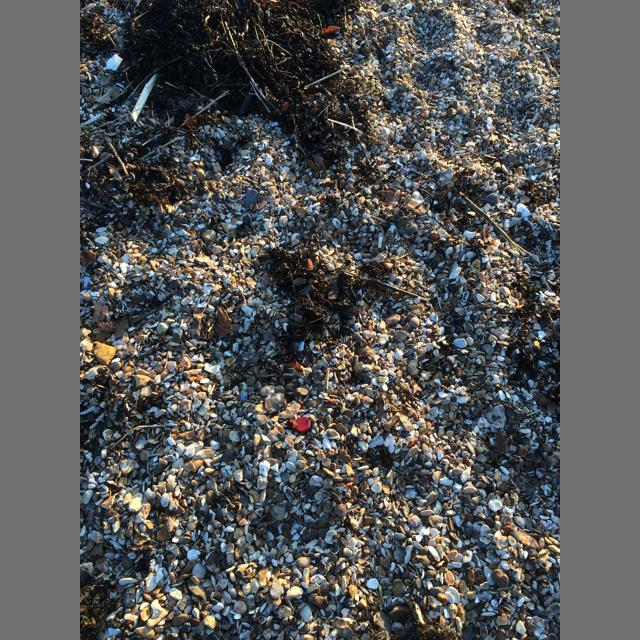litter: (296, 416, 311, 433)
